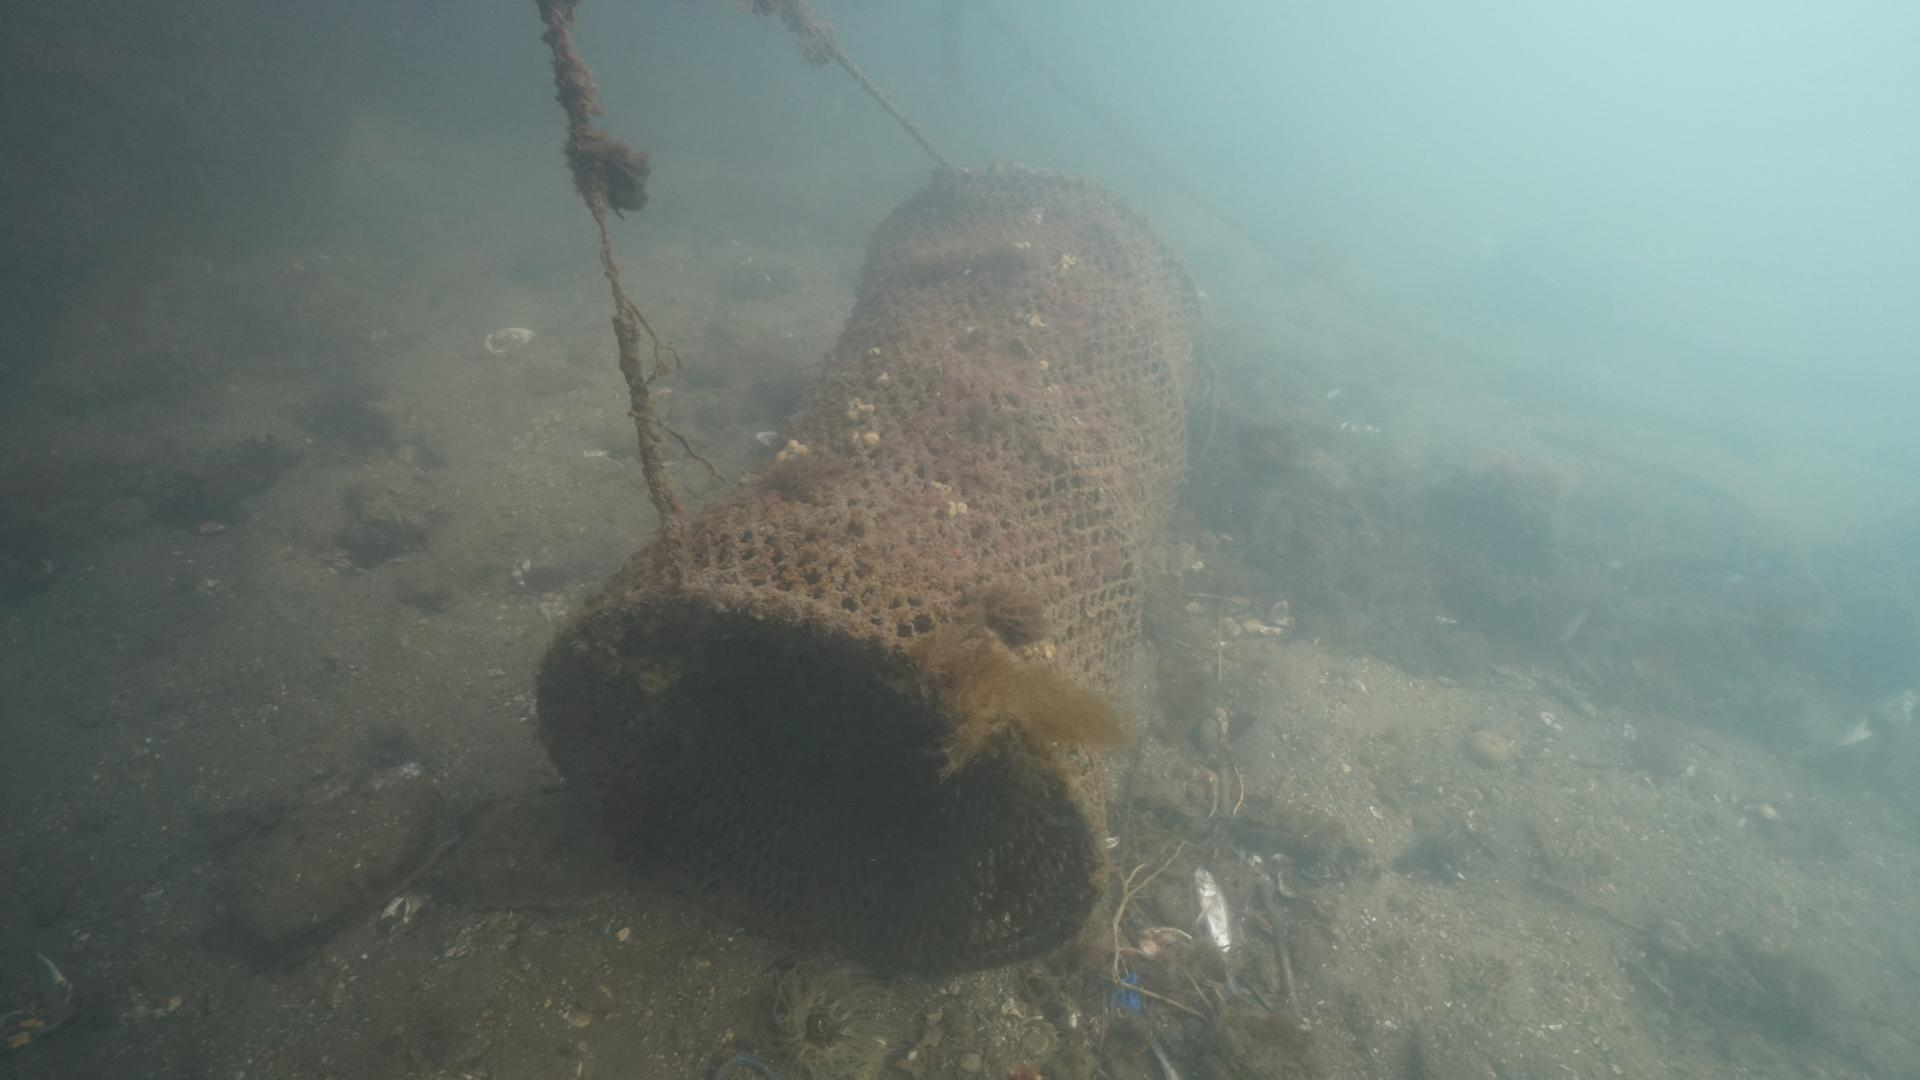rope: (534, 0, 682, 538), (769, 0, 960, 179)
spring fish trap: (529, 164, 1225, 982)
